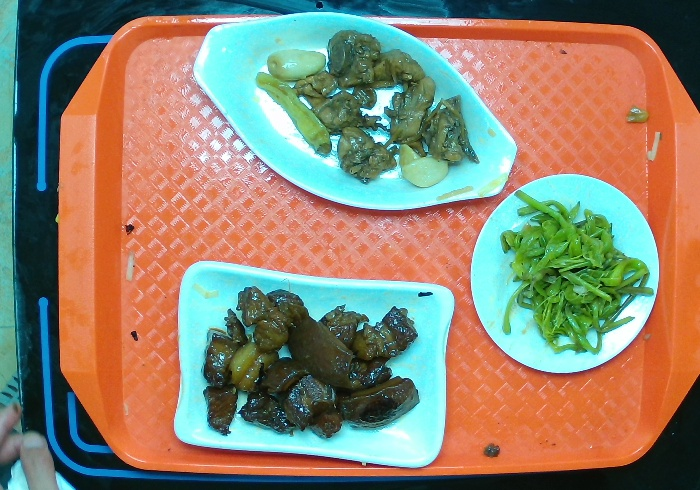RJxy-Si_Fang_Ao_Bian_Wan: (167, 258, 454, 474)
RJxy-Xiao_Yuan_Die: (467, 173, 661, 373)
RJxy-Yu_Pan: (192, 10, 517, 213)
